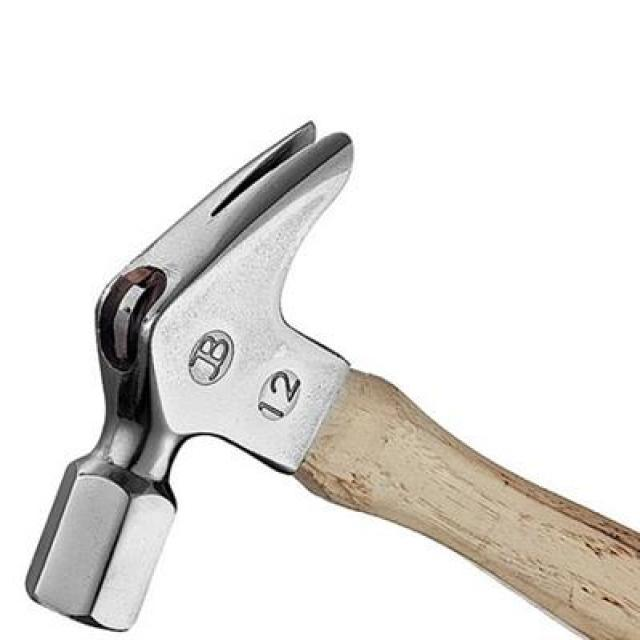hammer: (19, 118, 640, 640)
